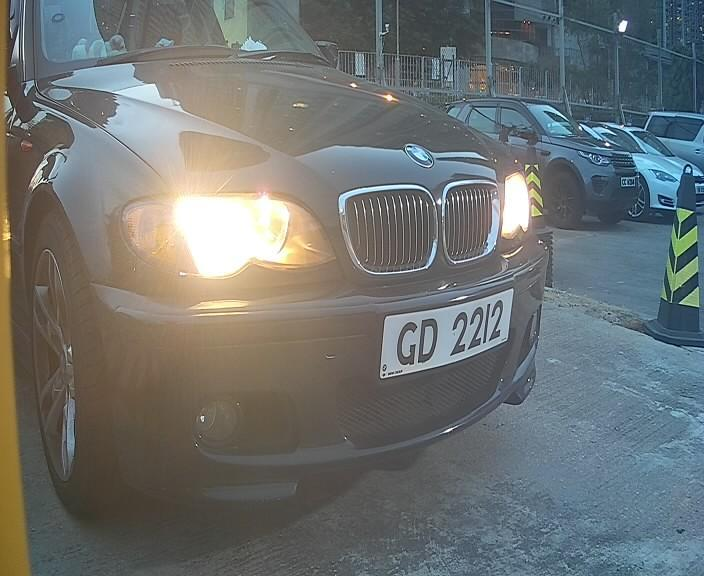privatecar: (54, 13, 569, 489)
